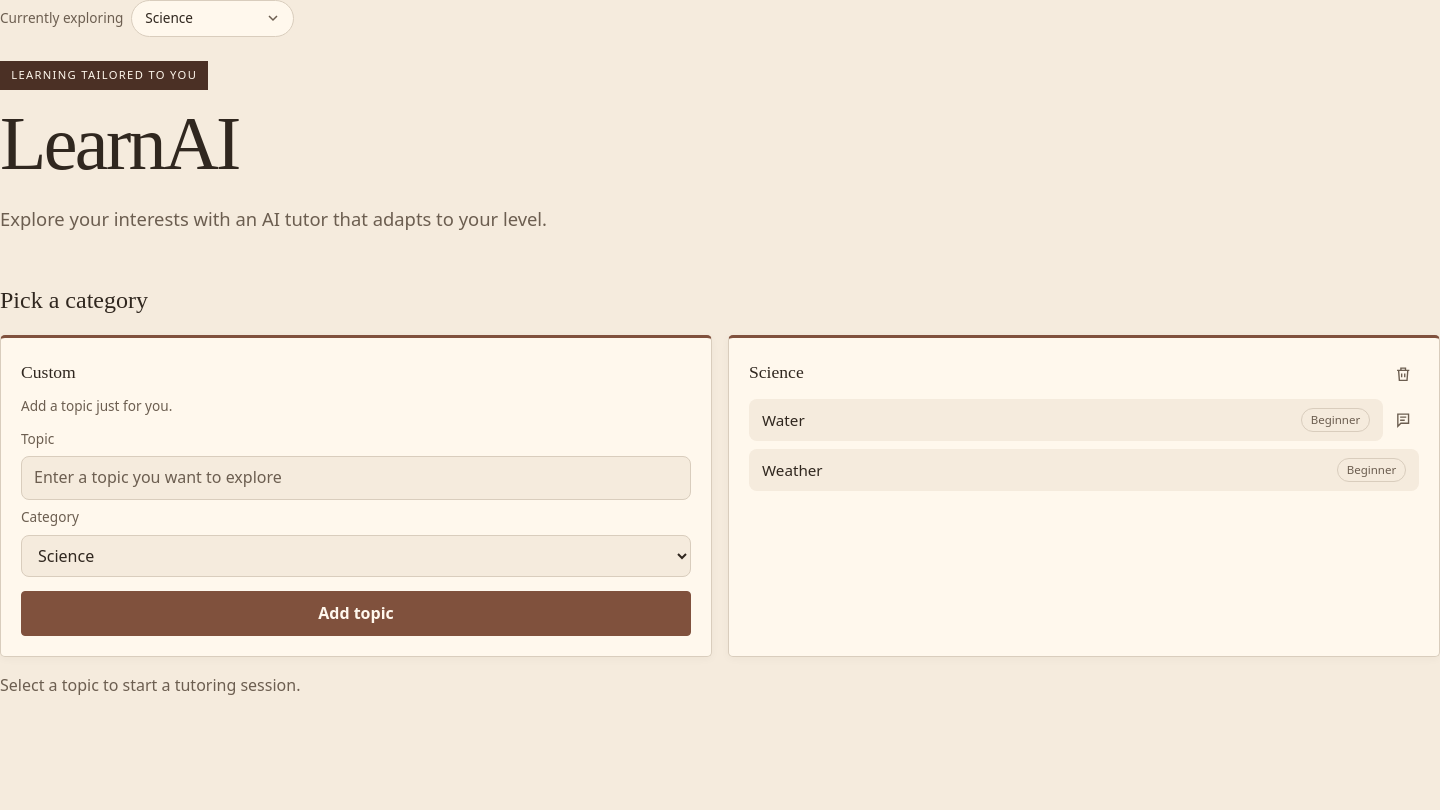
Test: reports a notes error, retries, and shows when no note exists
Click the button named "Notes for Water": (1403, 420) [1387,404,1419,436]
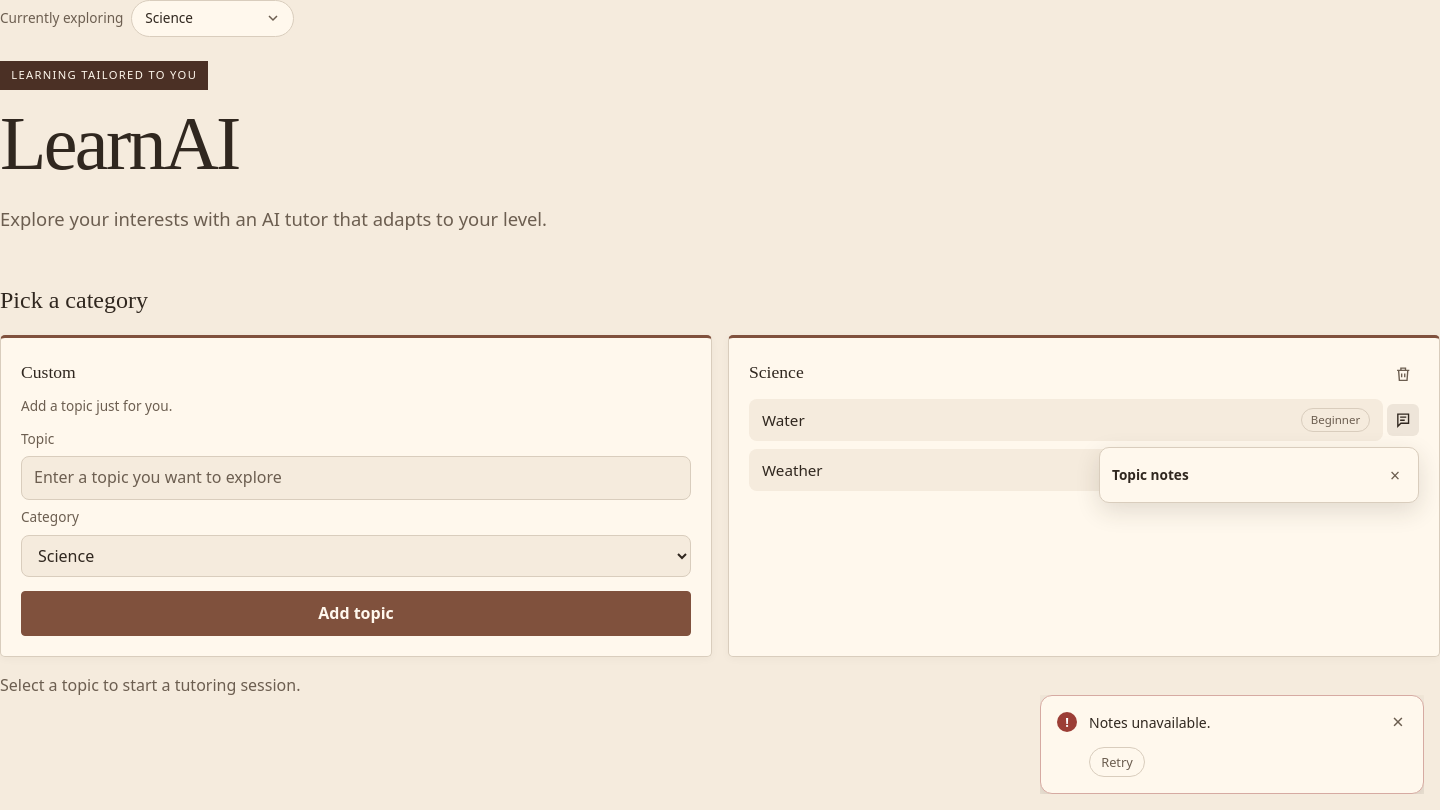
Check: the message reads "Notes unavailable.", box [1089,713,1210,732]
Press the mouse on the button "Retry": (1117, 762) [1089,746,1145,777]
Check: the dialog named "Notes for Water" is shown, box [1099,446,1419,503]
Click the button "Retry": (1117, 762) [1089,746,1145,777]
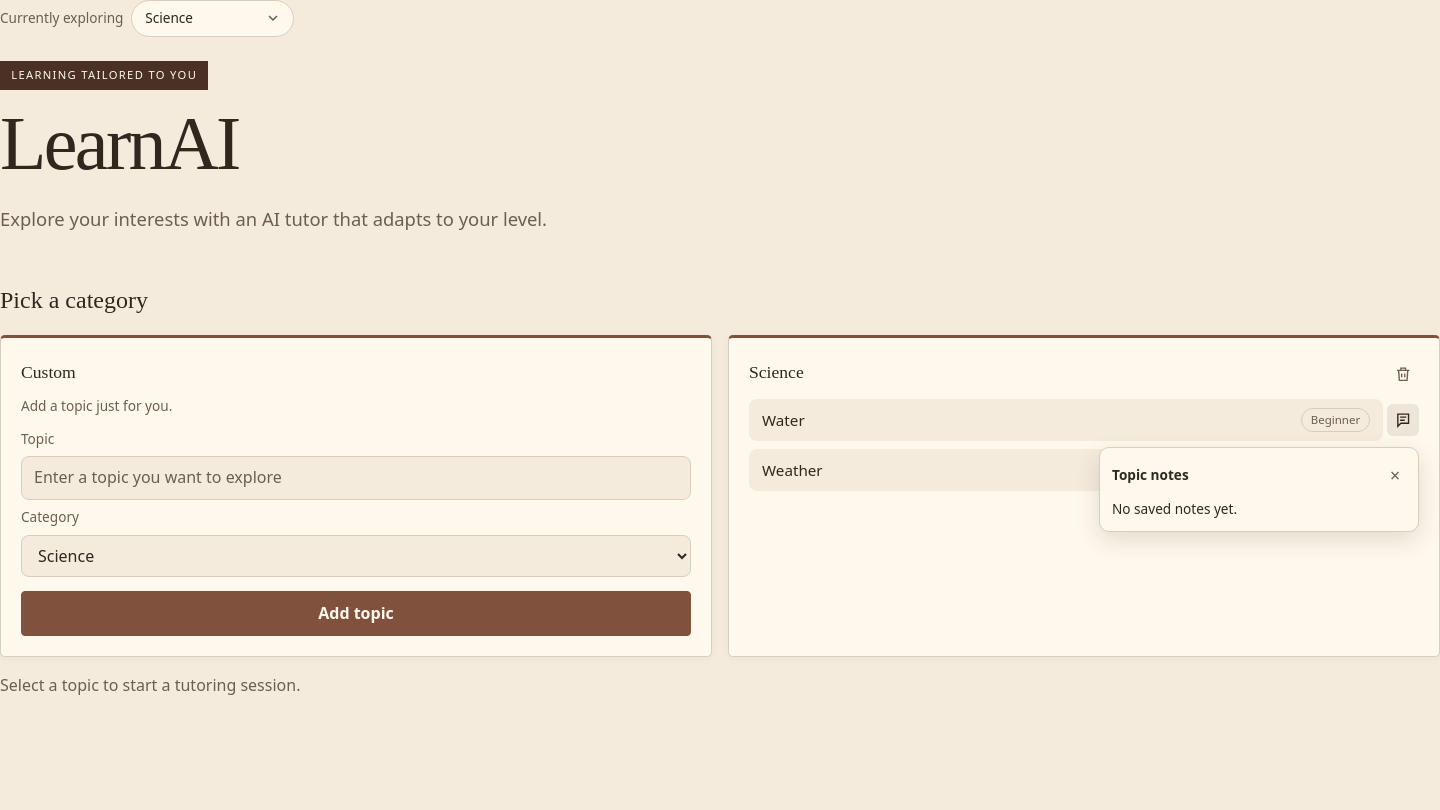
Check: the text "No saved notes yet." is shown, box [1112,499,1237,518]
Click the button named "Close notes": (1395, 475) [1384,460,1406,490]
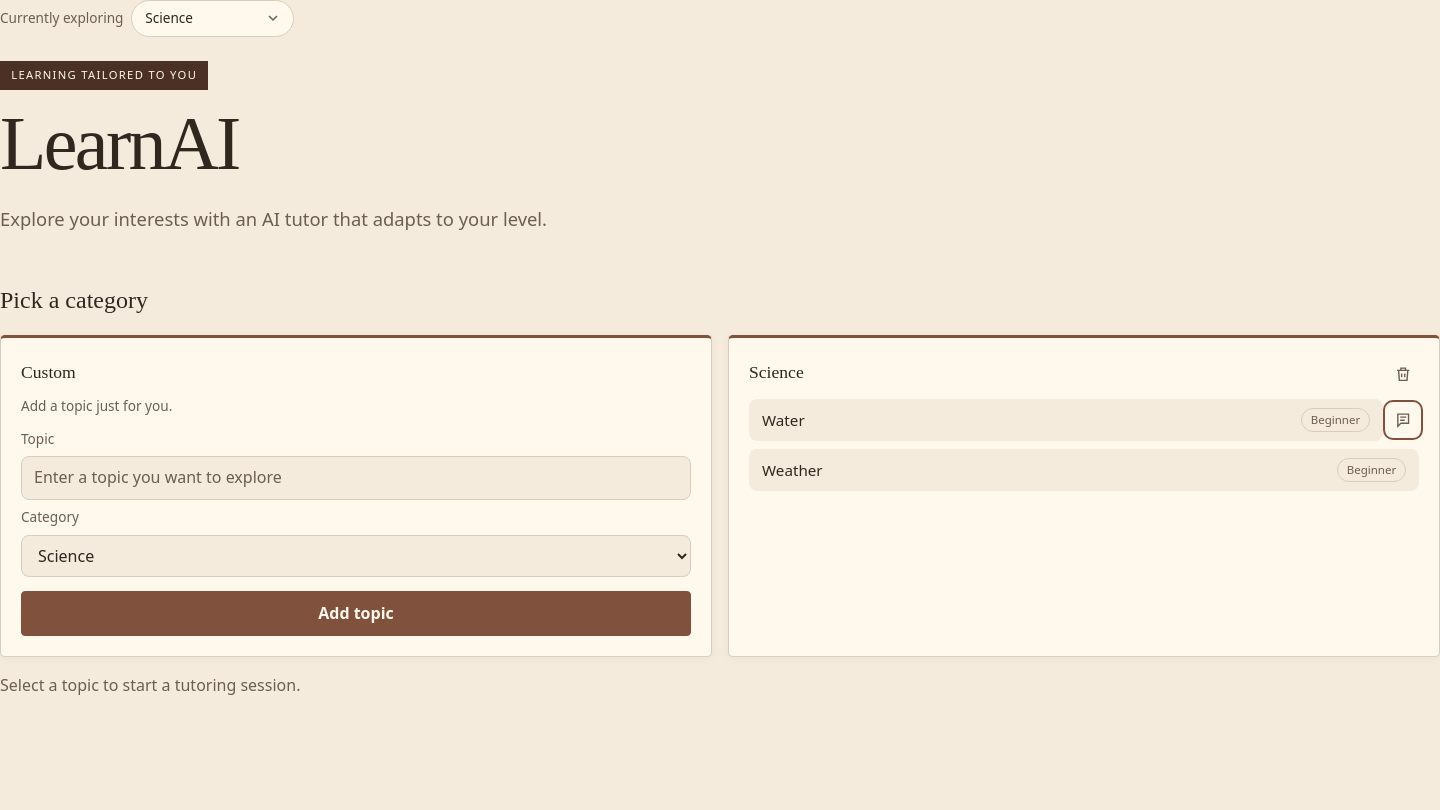
Click the button named "Notes for Water": (1403, 420) [1387,404,1419,436]
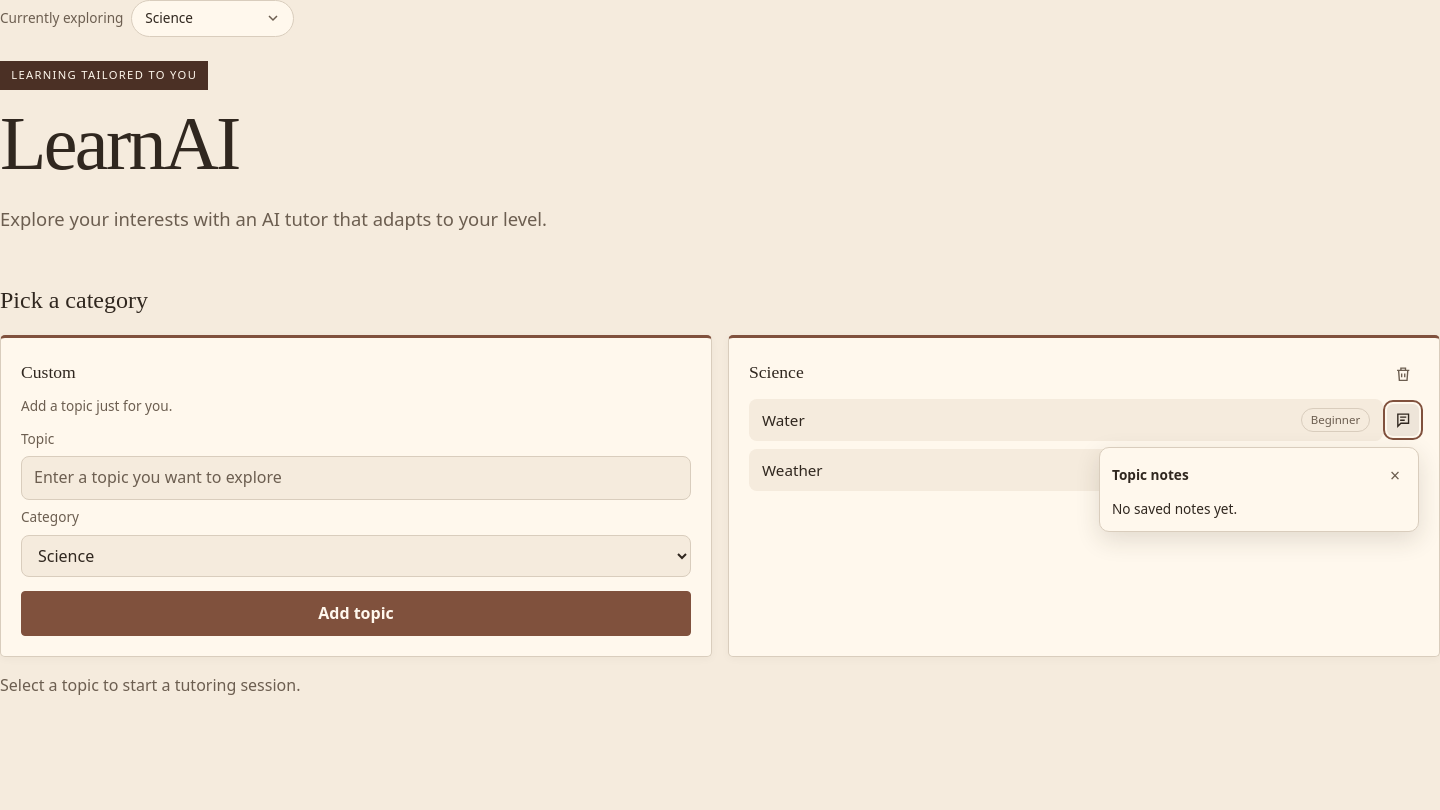
Check: the text "No saved notes yet." is shown, box [1112,499,1237,518]
